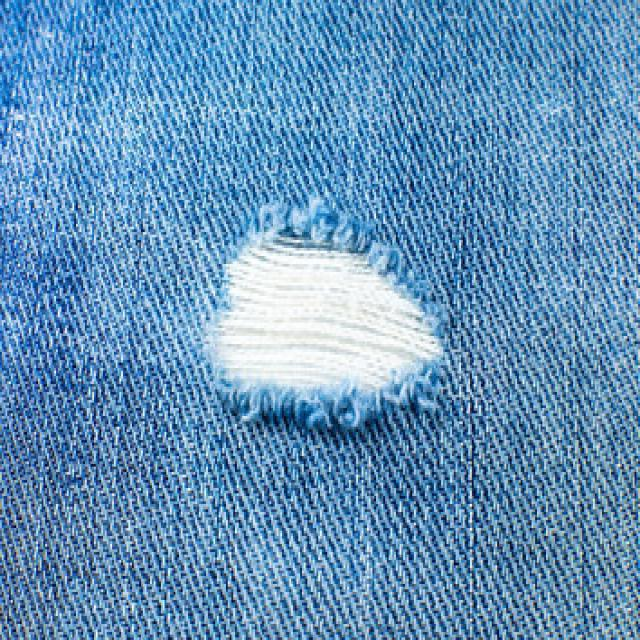Hole: (205, 233, 442, 430)
